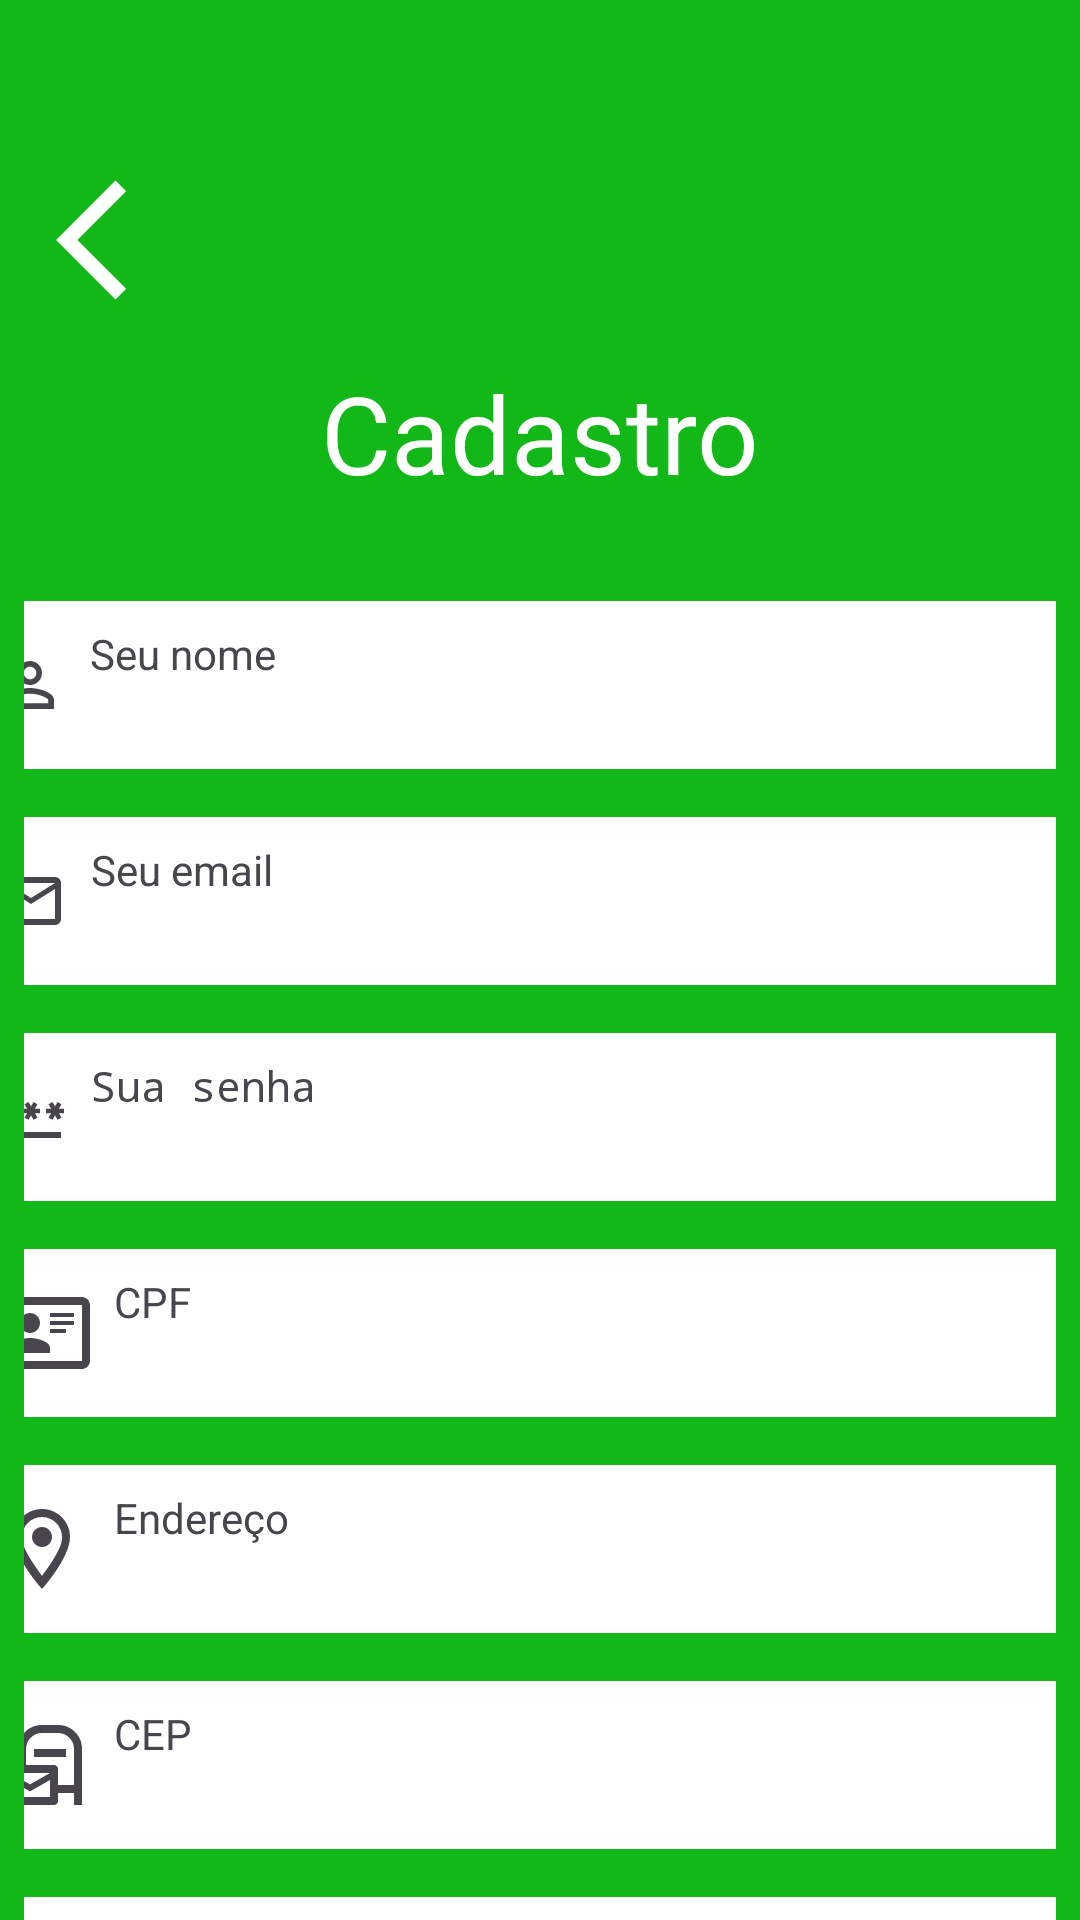

Screen size 1080×1920. Icon name, then its box in pixels as (x1,y1,x2,y2):
Botão para navegar para a tela anterior: (56,180,126,300)
